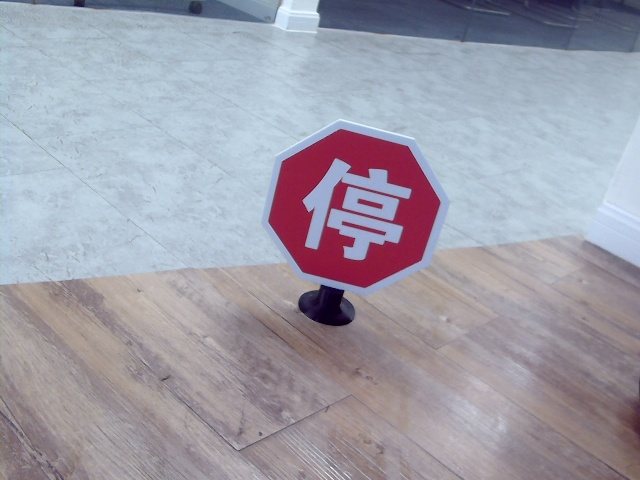stop: (300, 152, 409, 258)
